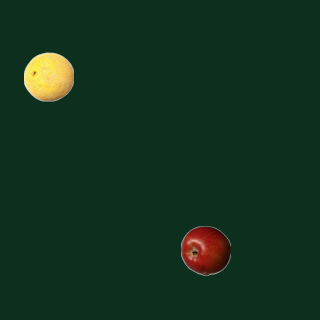Apple Braeburn: (180, 225, 230, 275)
Cantaloupe 1: (23, 51, 73, 101)
